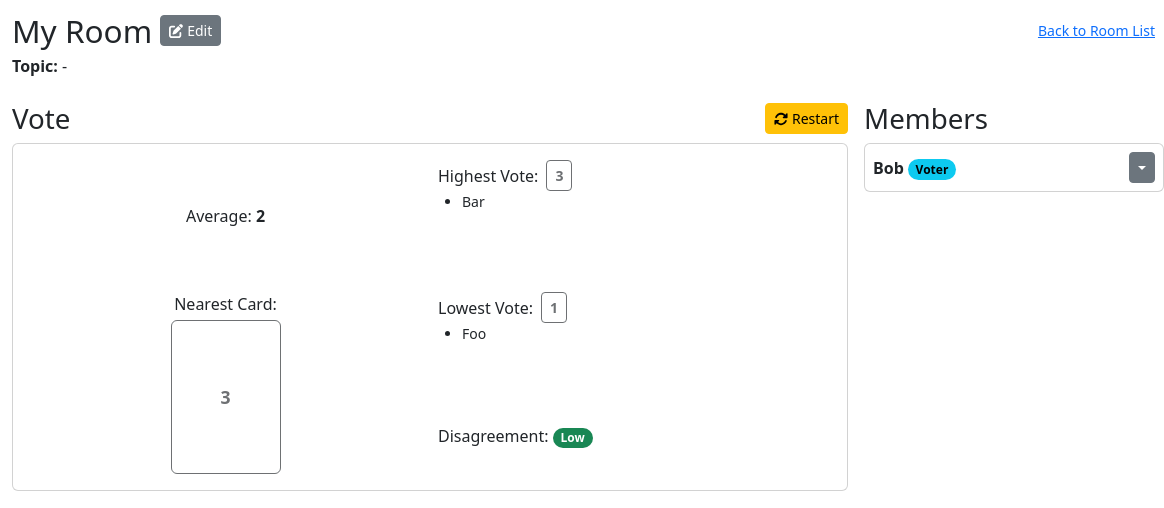
RoomView › restarts voting
expect the text "Nearest Card:" is shown: met, box [174, 292, 277, 316]
Click the button "Restart".
click(806, 118)  # box [765, 103, 848, 134]
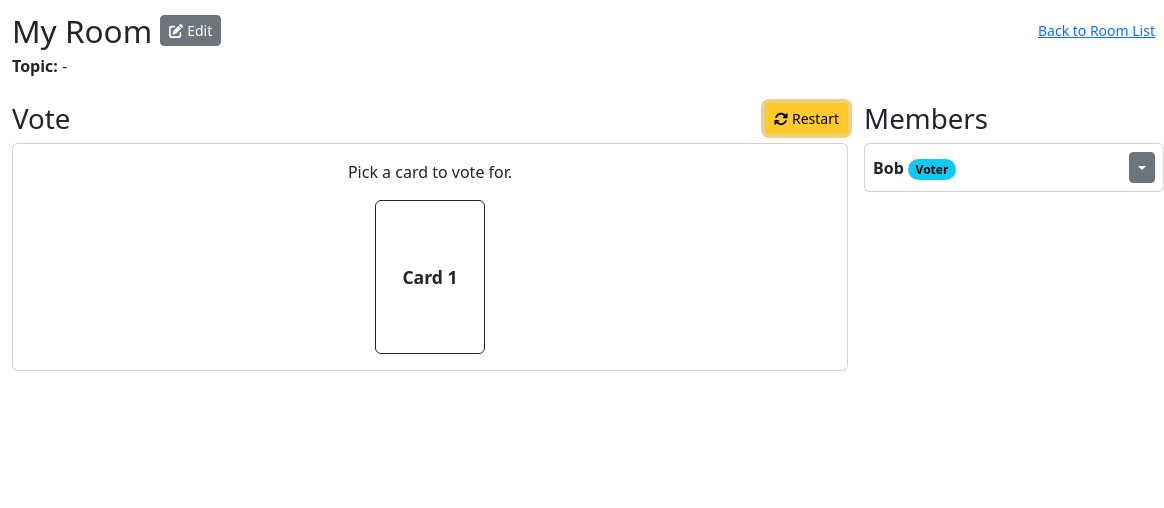
expect the button "Card 1" is shown: met, box [375, 200, 485, 354]
expect the text "Nearest Card:" is gone: met
